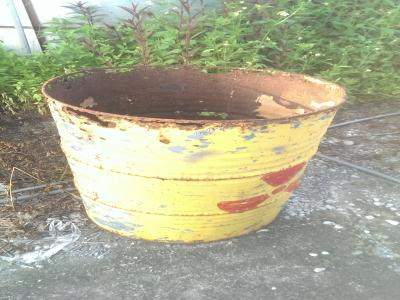bucket: (38, 62, 351, 246)
